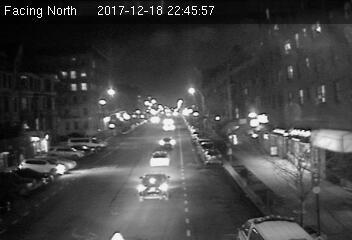car: (137, 172, 171, 202), (148, 151, 172, 166), (203, 148, 223, 166), (158, 136, 177, 150)
police: (236, 215, 311, 240)
